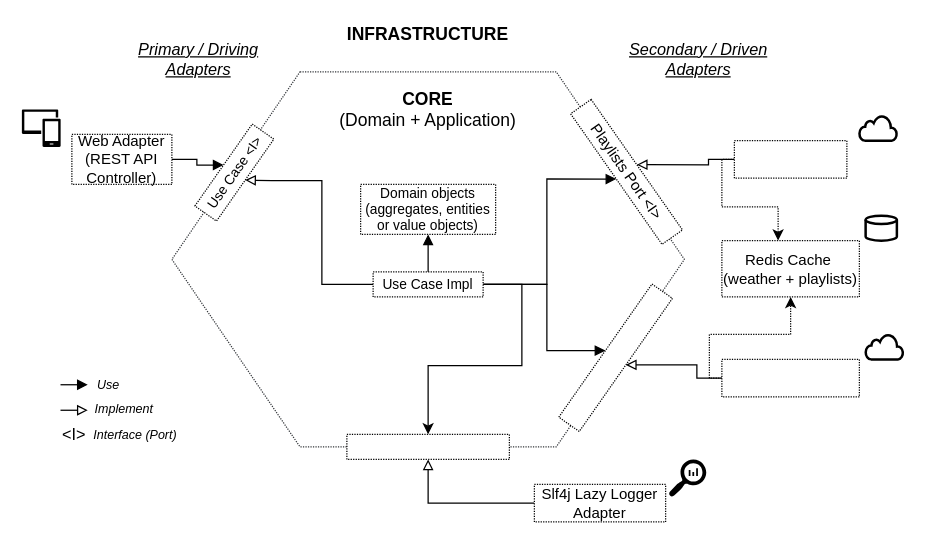
The diagram is 925 pixels wide and 544 high, and some of its shapes have lost their labels. The shapes that lost their labels are listed below. From the top down, each one's centre as x and y in pixels, then its label:
At point (790, 158): "Spotify Adapter".
At point (615, 357): "Weather Port <I>".
At point (790, 377): "OpenWeatherMaps Adapter".
At point (427, 446): "Logging Port <I>".
